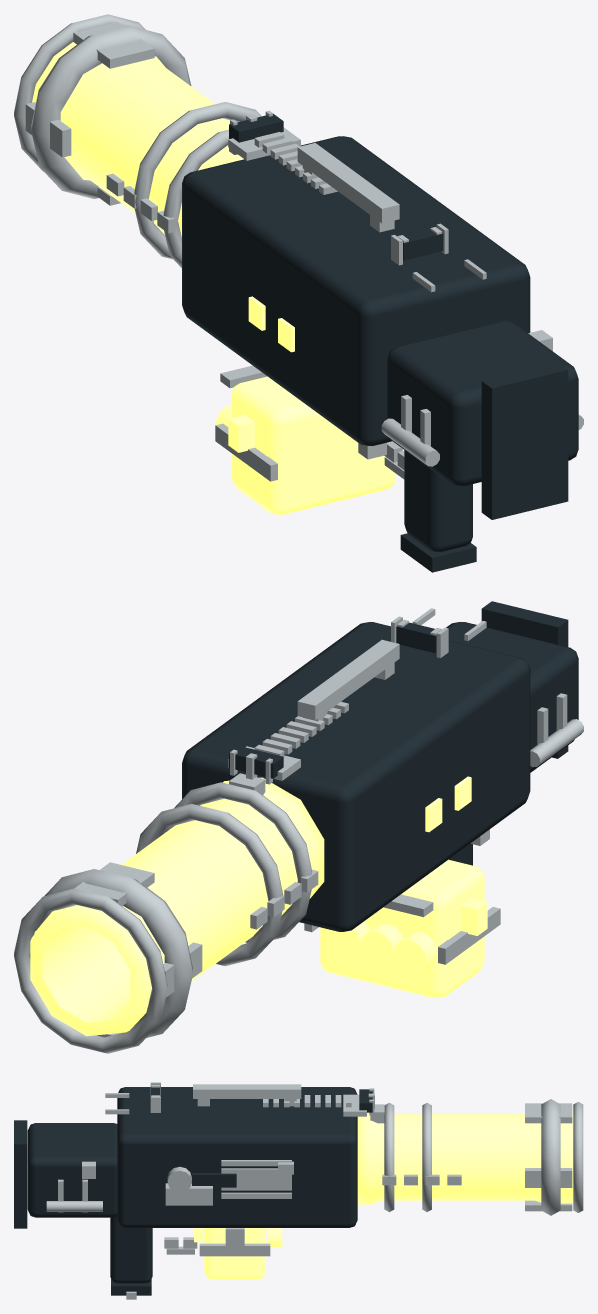
File: weapon-7.glb
3 renders of one model, top to bottom at view 1: azimuth 30°, elevation 25°; view 2: azimuth 150°, elevation 25°; view 3: azimuth 270°, elevation 25°, orthographic. The views are drawn at different scales.
Parts seen in each view (by area): view 1: WorldBatch0, WorldBatch2, WorldBatch1; view 2: WorldBatch0, WorldBatch1, WorldBatch2; view 3: WorldBatch0, WorldBatch2, WorldBatch1.
Part boxes in pixels (left/top/right/bottom): WorldBatch0: left=182, top=113, right=578, bottom=572; WorldBatch2: left=14, top=14, right=583, bottom=481; WorldBatch1: left=32, top=42, right=395, bottom=514; WorldBatch0: left=182, top=601, right=578, bottom=931; WorldBatch1: left=30, top=776, right=487, bottom=1036; WorldBatch2: left=14, top=608, right=583, bottom=1053; WorldBatch0: left=14, top=1086, right=372, bottom=1295; WorldBatch2: left=46, top=1082, right=583, bottom=1299; WorldBatch1: left=89, top=1111, right=583, bottom=1279.
Size of the model in its own units: 0.361 by 0.479 by 1.21.
